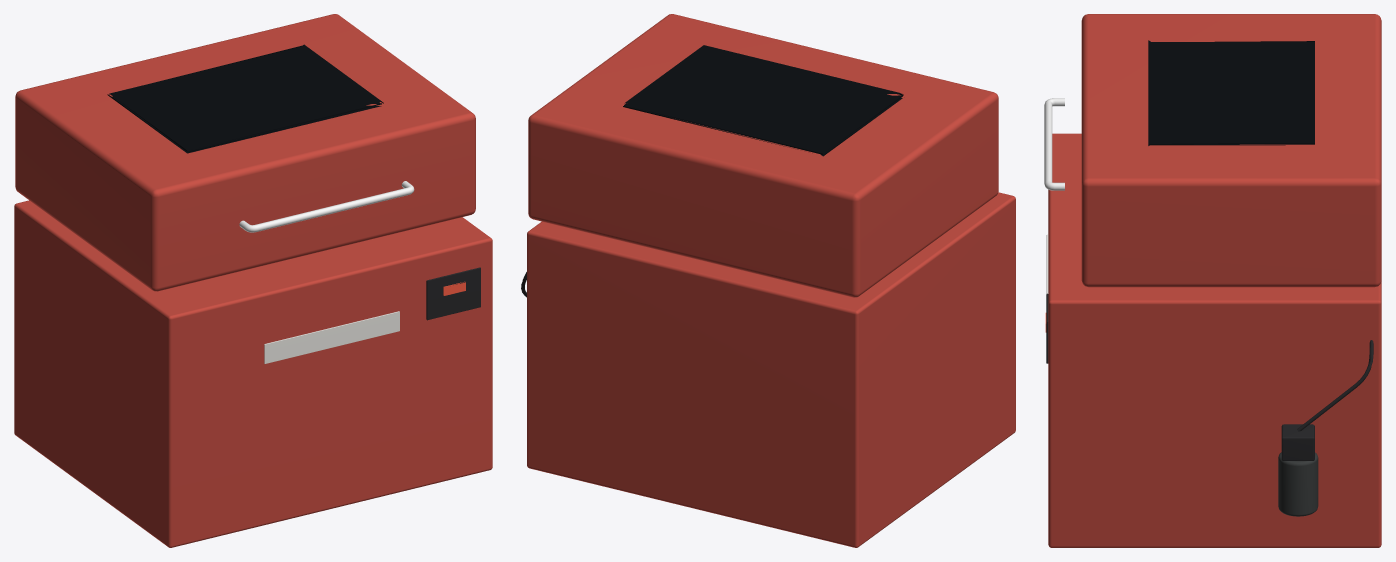
File: industrial.workshop.washer_cabinet.glb
3 views of the same model, side by side, from view 1: azimuth 30°, elevation 25°; view 2: azimuth 150°, elevation 25°; view 3: azimuth 270°, elevation 25° (orthographic). The views are drawn at different scales.
Visible parts, largest first — view 1: main__paint_c44, main__glass_dark, main__paint_eee, main__paint_222, main__chrome_eee; view 2: main__paint_c44, main__glass_dark; view 3: main__paint_c44, main__glass_dark, main__paint_333, main__paint_222, main__chrome_eee.
Part boxes in pixels (<box>): main__paint_c44: <box>14,14,492,547</box>; main__glass_dark: <box>107,44,383,153</box>; main__paint_eee: <box>264,311,399,363</box>; main__paint_222: <box>426,267,480,320</box>; main__chrome_eee: <box>239,181,414,232</box>; main__paint_c44: <box>527,14,1015,547</box>; main__glass_dark: <box>623,45,903,156</box>; main__paint_c44: <box>1048,14,1381,547</box>; main__glass_dark: <box>1148,40,1314,145</box>; main__paint_333: <box>1278,452,1318,516</box>; main__paint_222: <box>1046,293,1373,460</box>; main__chrome_eee: <box>1044,98,1064,190</box>.
Bounding box in the file's own units: 1.32 × 1.24 × 1.01.
